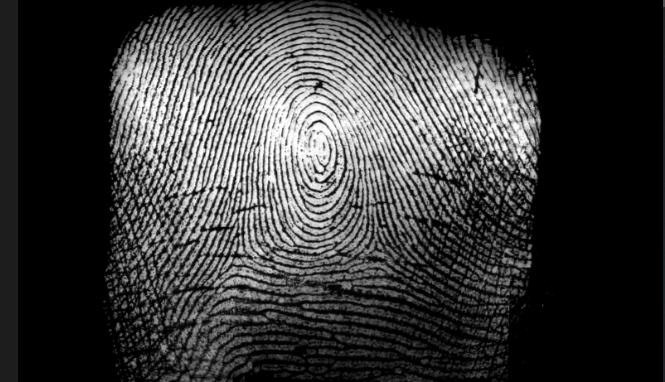deltas: (215, 222, 269, 276), (354, 219, 404, 270)
nucleo: (297, 121, 340, 167)
